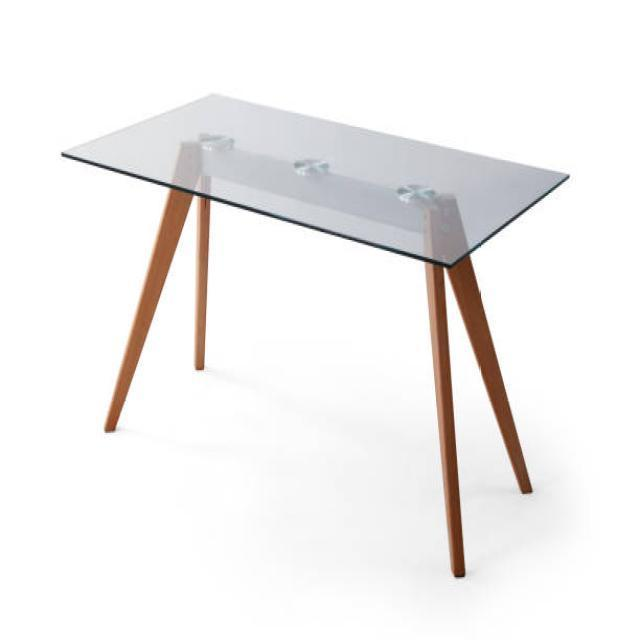table: (59, 90, 570, 578)
